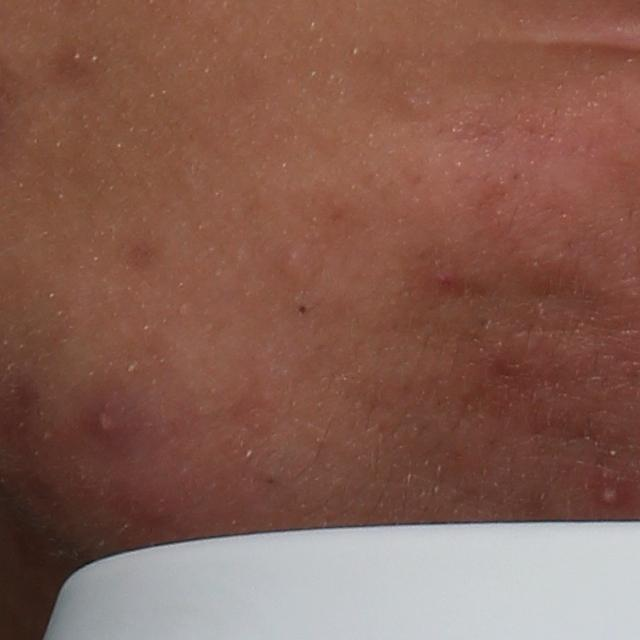comedo: (294, 297, 309, 322)
pustule: (88, 397, 125, 444), (595, 477, 623, 505)
